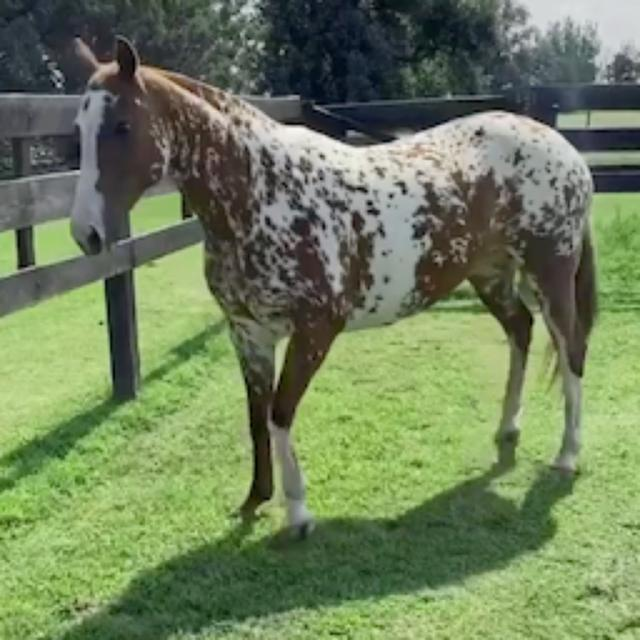Horse: (45, 25, 610, 545)
